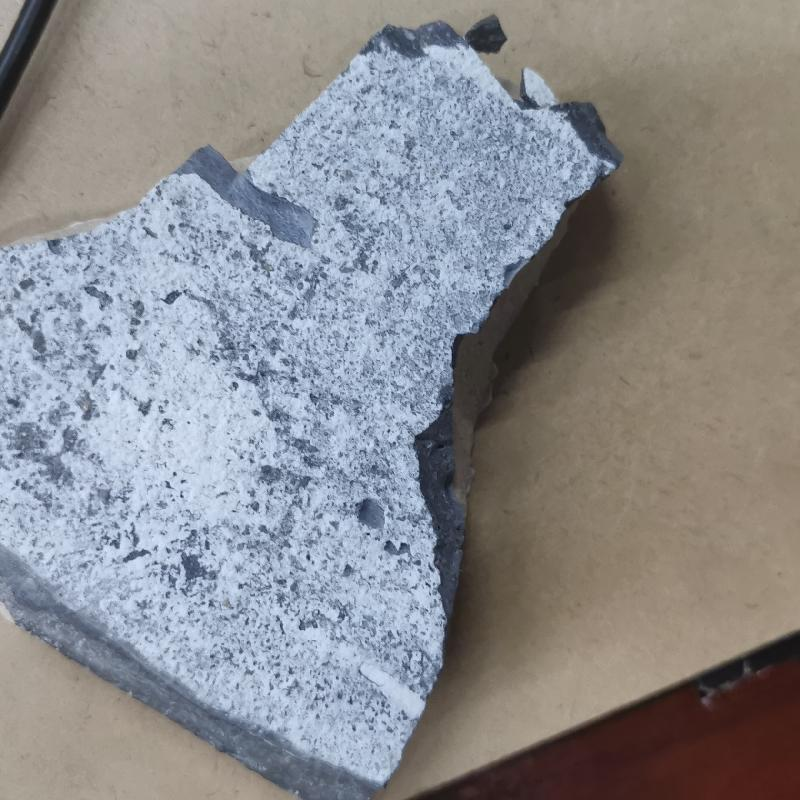tile: (3, 16, 621, 800)
